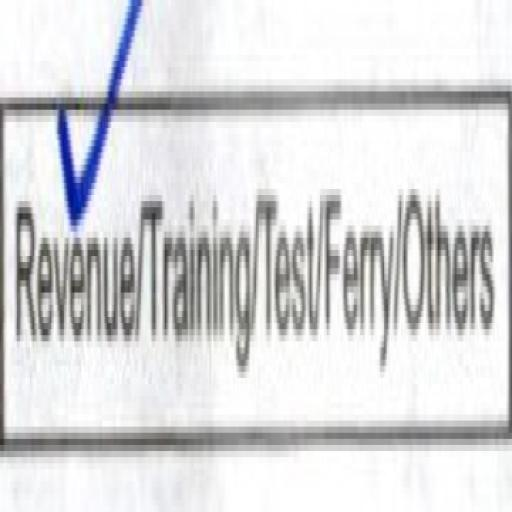check: (2, 0, 142, 501)
